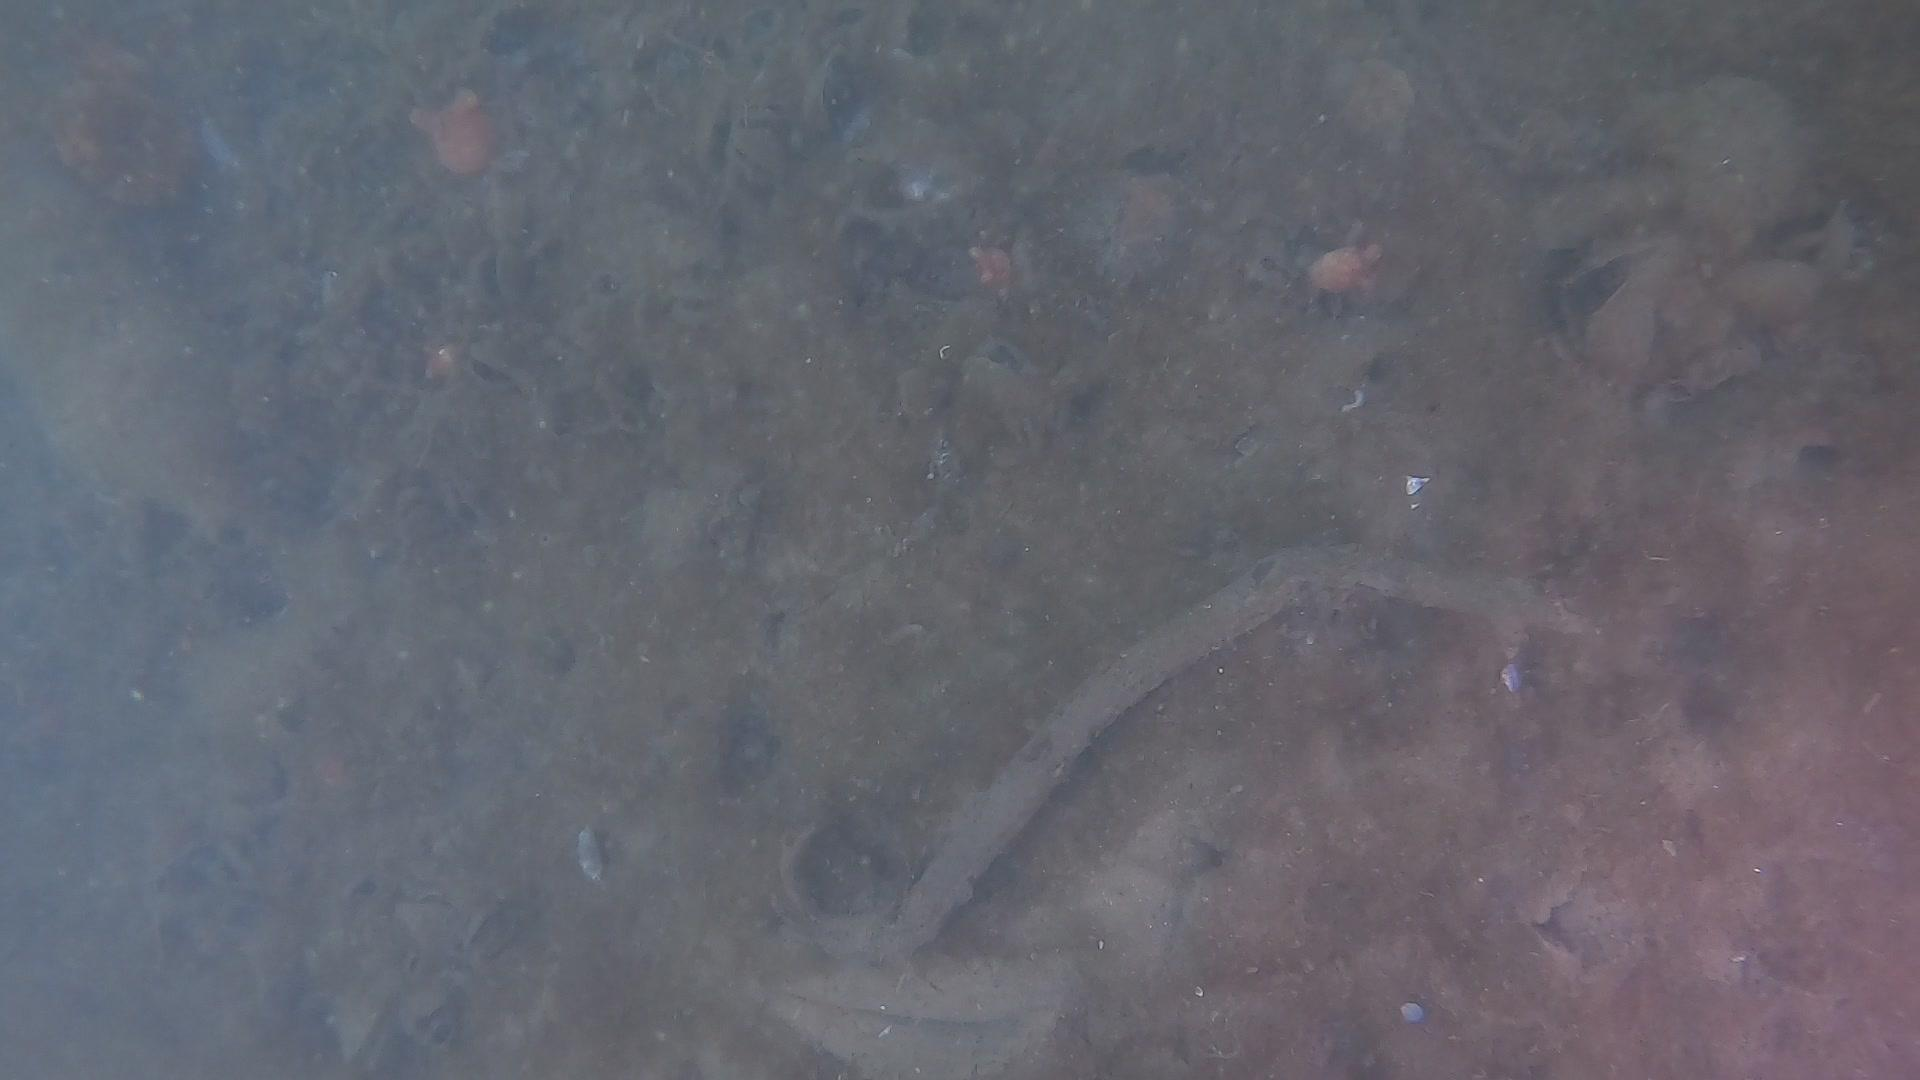wood: (884, 547, 1582, 964)
